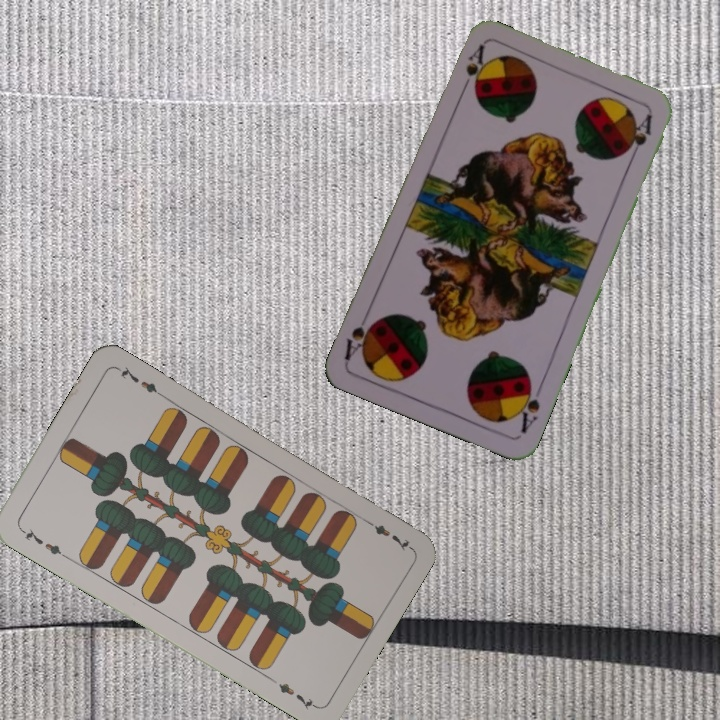E7: (360, 515, 413, 554), (16, 524, 69, 561)
SA: (511, 376, 543, 436), (456, 41, 487, 98)
